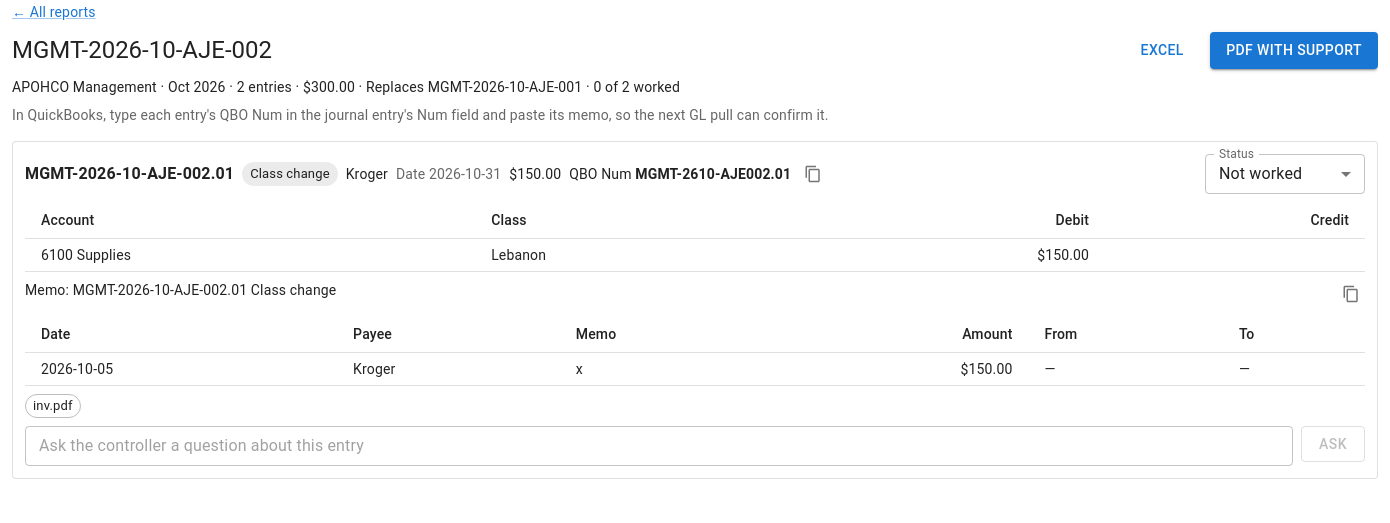
it: one report › marking an entry Booked saves it
Expected: the text "MGMT-2026-10-AJE-002.01" is shown, 25,162 -> 234,186
Click the dropdown named "Status".
click(1261, 174)  # box 1219,164 -> 1302,183
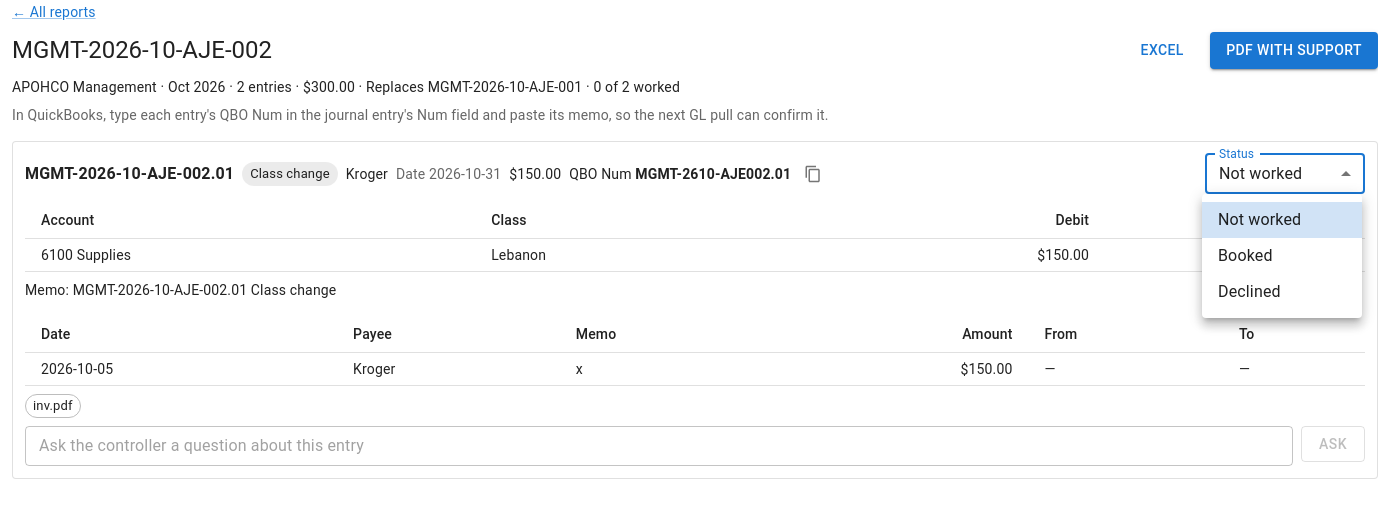
Click the option "Booked".
click(1245, 256)  # box 1218,246 -> 1273,265
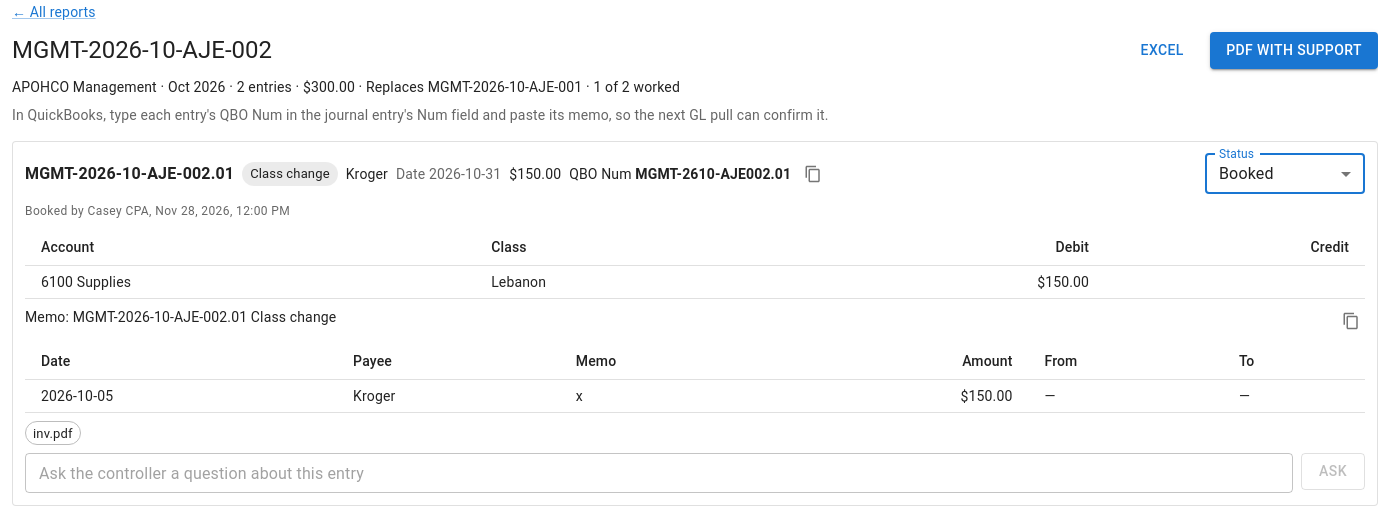
Expected: the text "Booked by Casey CPA, Nov 28, 2026, 12:00 PM" is shown, 25,204 -> 290,218
